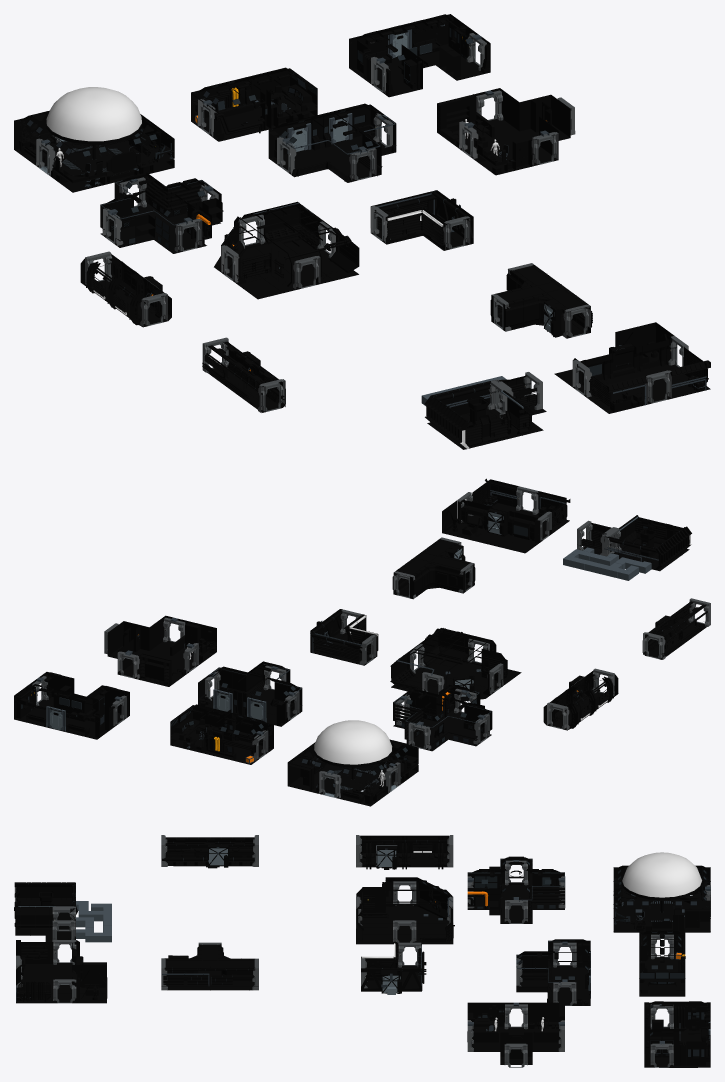
File: SRooms.fbx
3 renders of one model, top to bottom at view 1: azimuth 30°, elevation 25°; view 2: azimuth 150°, elevation 25°; view 3: azimuth 270°, elevation 25°, orthographic. The views are drawn at different scales.
Visible parts, largest first — view 1: steklo kupol, Main.015, Plane.003, Main.014, Main.002, Plane.024, Main, MainRoom, room, Plane.022, Plane.025, ROOMx4_1 (+22 smaller); view 2: Main.015, Main, Plane.003, steklo kupol, Main.014, MainRoom, Main.002, room, Cube.079, Plane.024, Plane.022, Main.018 (+21 smaller); view 3: Main.015, steklo kupol, Plane.003, Plane.024, Main.002, Main, Plane.022, MainRoom, MainTonel.008, Main.014, MainTonel.007, Plane.025 (+27 smaller).
Boxes of the visible parts, box(x1,y1,x2,y2) form: steklo kupol: box(46, 87, 141, 141); Main.015: box(437, 88, 570, 175); Plane.003: box(100, 172, 221, 253); Main.014: box(349, 14, 490, 96); Main.002: box(268, 103, 396, 182); Plane.024: box(214, 236, 358, 299); Main: box(14, 110, 174, 192); MainRoom: box(221, 201, 359, 288); room: box(191, 67, 317, 141); Plane.022: box(554, 351, 710, 413); Plane.025: box(494, 265, 589, 311); ROOMx4_1: box(221, 214, 335, 289); Main.015: box(107, 615, 216, 686); Main: box(287, 739, 418, 806); Plane.003: box(393, 685, 492, 751); steklo kupol: box(314, 720, 392, 764); Main.014: box(14, 672, 129, 739); MainRoom: box(390, 628, 507, 693); Main.002: box(198, 661, 302, 726); room: box(170, 704, 273, 764); Cube.079: box(563, 547, 651, 580); Plane.024: box(391, 656, 521, 701); Plane.022: box(442, 503, 569, 553); Main.018: box(392, 539, 475, 598); Main.015: box(467, 1002, 560, 1064); steklo kupol: box(622, 852, 701, 897); Plane.003: box(467, 856, 564, 923); Plane.024: box(356, 906, 453, 944); Main.002: box(516, 939, 590, 1005); Main: box(613, 865, 710, 932); Plane.022: box(16, 962, 106, 1003); MainRoom: box(356, 877, 453, 942); MainTonel.008: box(356, 835, 452, 867); Main.014: box(644, 1001, 710, 1067); MainTonel.007: box(165, 837, 254, 868); Plane.025: box(165, 944, 254, 968).
Size of the model in its own units: 51.82 by 6.24 by 71.64.
